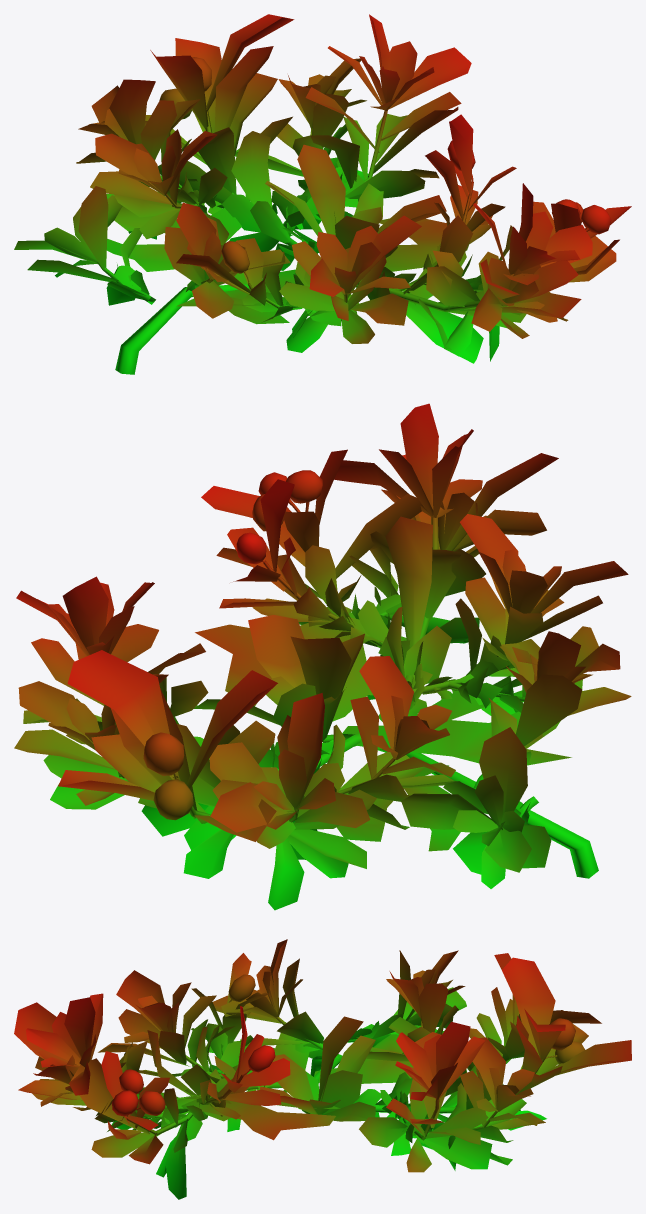
Rendered from Alpine Bearberry_LOD3_Var7_xb0gdazqx.fbx.
The picture shows the model from 3 angles, top to bottom: view 1: azimuth 30°, elevation 25°; view 2: azimuth 150°, elevation 25°; view 3: azimuth 270°, elevation 25°; orthographic projection. The views are drawn at different scales.
Visible parts, largest first — view 1: _fkz7_Var7_LOD3; view 2: _fkz7_Var7_LOD3; view 3: _fkz7_Var7_LOD3.
Boxes of the visible parts, left/top/right/bottom form: _fkz7_Var7_LOD3: left=14, top=14, right=631, bottom=374; _fkz7_Var7_LOD3: left=14, top=403, right=631, bottom=910; _fkz7_Var7_LOD3: left=14, top=939, right=631, bottom=1199.
Size of the model in its own units: 25.39 by 12.13 by 34.79.
